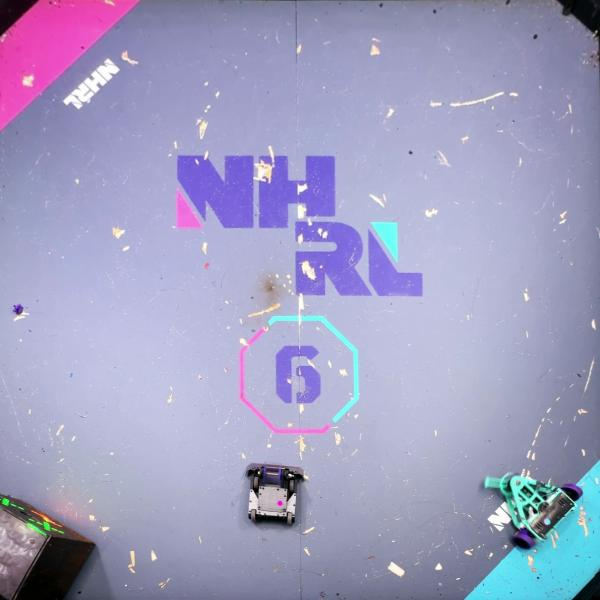housebot: (0, 496, 97, 600)
robot: (482, 470, 583, 550), (245, 463, 304, 527)
